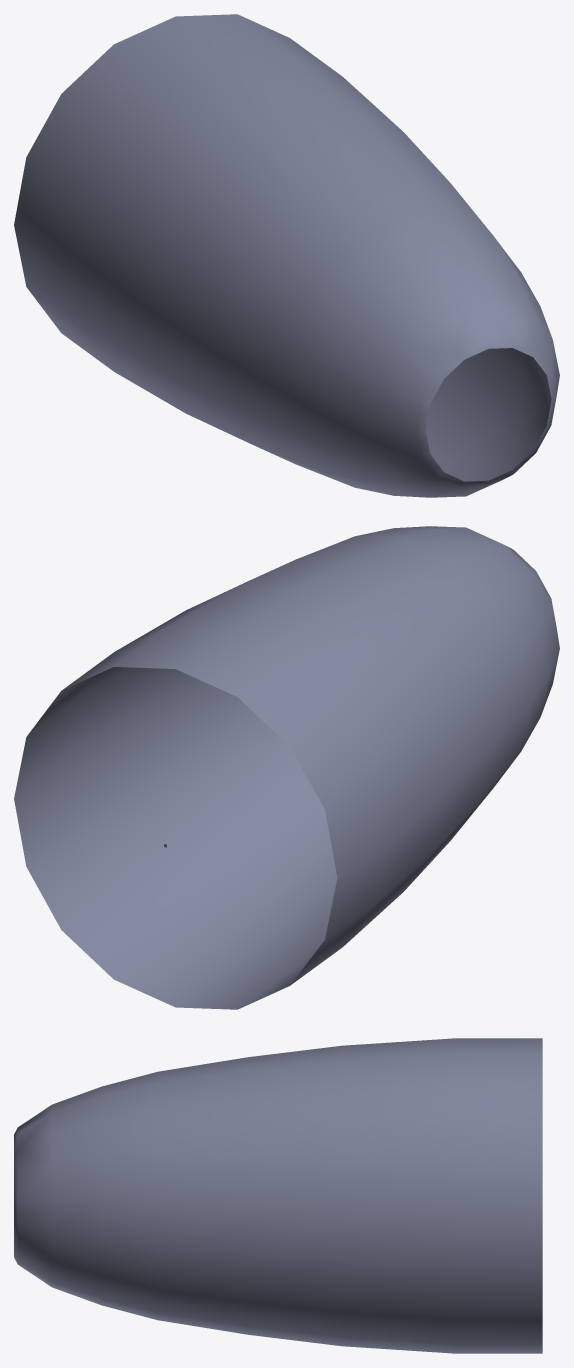
File: MeshSoapBottle_9_0_GeomSubset_0.obj
3 renders of one model, top to bottom at view 1: azimuth 30°, elevation 25°; view 2: azimuth 150°, elevation 25°; view 3: azimuth 270°, elevation 25°, orthographic. The views are drawn at different scales.
Parts seen in each view (by area): view 1: MeshSoapBottle_9_0_GeomSubset_0; view 2: MeshSoapBottle_9_0_GeomSubset_0; view 3: MeshSoapBottle_9_0_GeomSubset_0.
Boxes of the visible parts, x1,y1,x2,y2 form: MeshSoapBottle_9_0_GeomSubset_0: (14,14,559,497); MeshSoapBottle_9_0_GeomSubset_0: (14,526,559,1009); MeshSoapBottle_9_0_GeomSubset_0: (14,1038,542,1353).
Bounding box in the file's own units: 0.1046 × 0.1046 × 0.1811.
